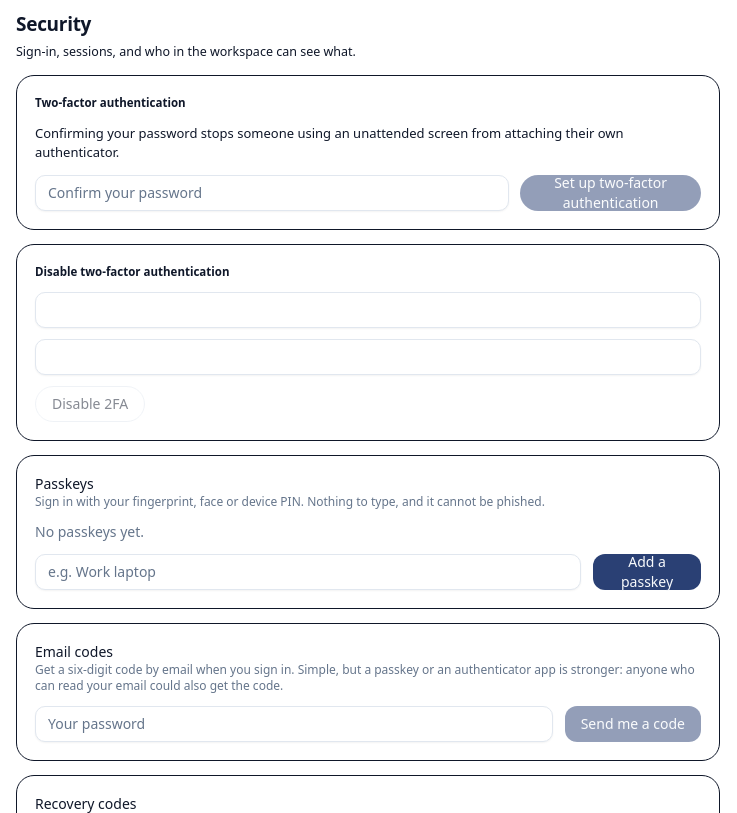
Test: SettingsSecurityPage › sends the password when the user fills it in, and surfaces a 422 error otherwise
Type "123456" into the field named "Confirmation code" at (368, 310), box [35,292,701,328]
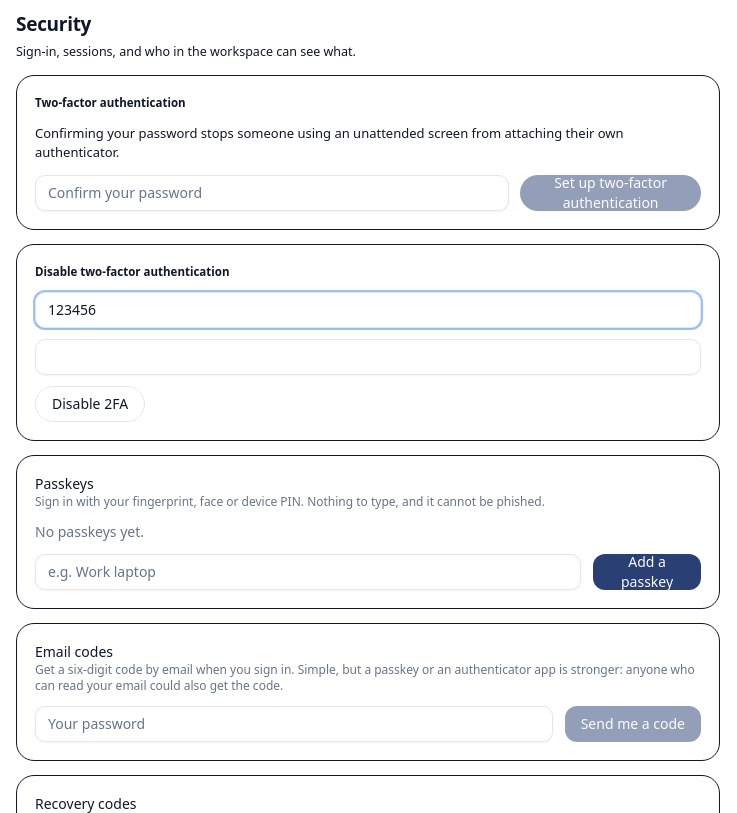
Click the button "Disable 2FA" at (90, 404), box [35,386,145,422]
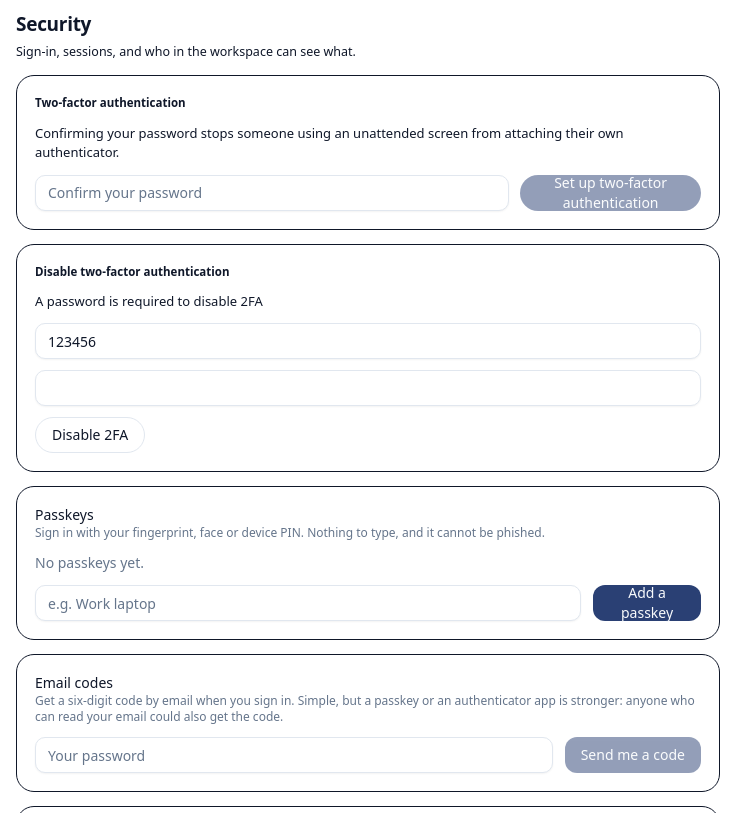
Expected: the message reads "A password is required to disable 2FA", [35,292,263,310]
Type "hunter2" into the password field named "Password" at (368, 388), box [35,370,701,406]
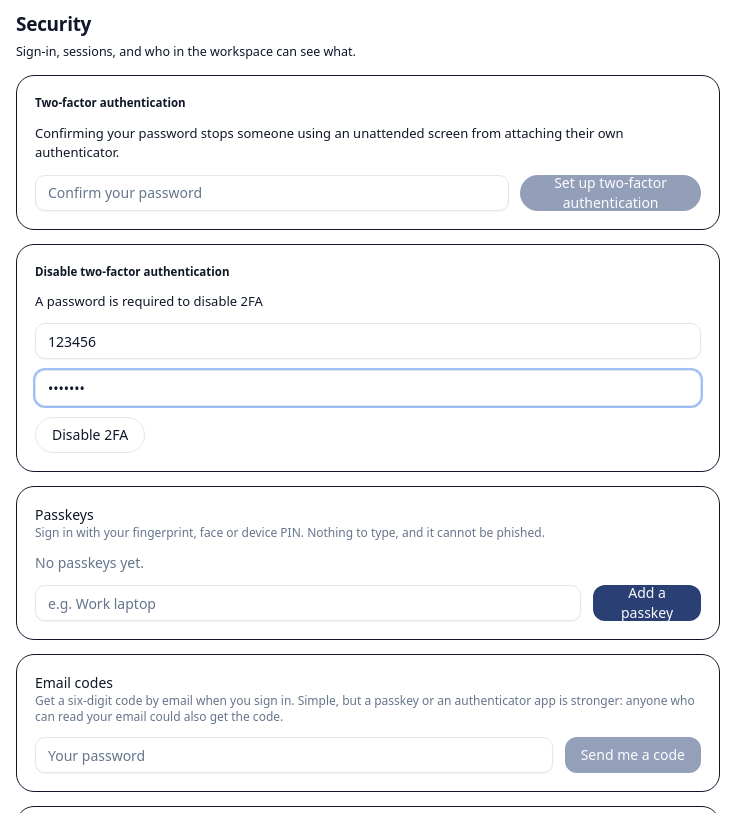
Click the button "Disable 2FA" at (90, 435), box [35,417,145,453]
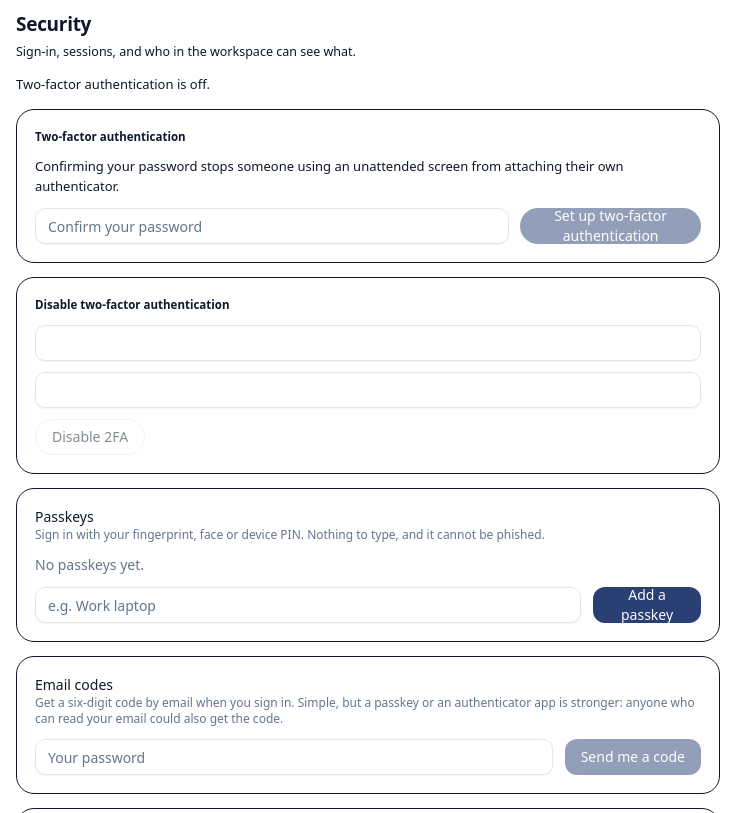
Expected: the text "Two-factor authentication is off." is shown, [16,75,210,93]
